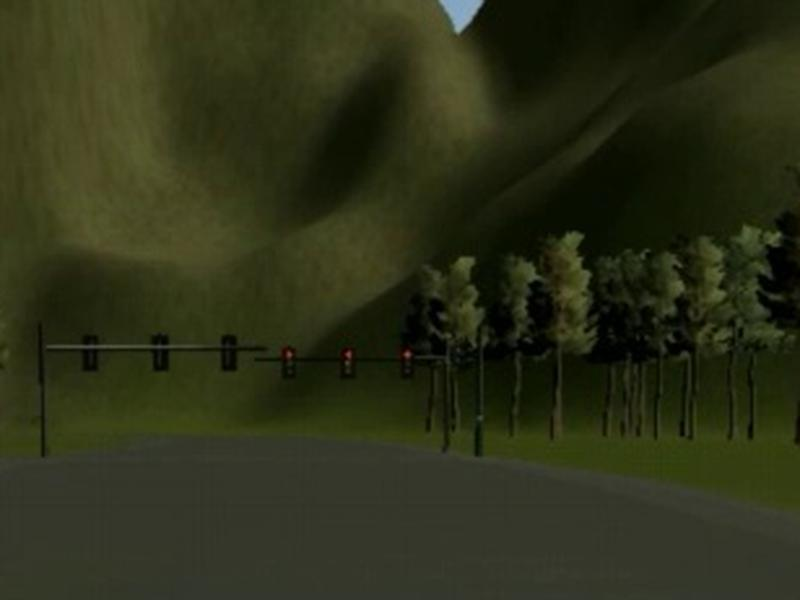Red: (282, 345, 299, 382), (398, 349, 417, 381), (341, 345, 357, 381)
